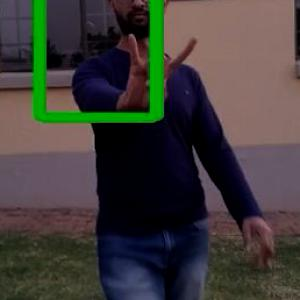takeoff-hand: (115, 26, 209, 126)
